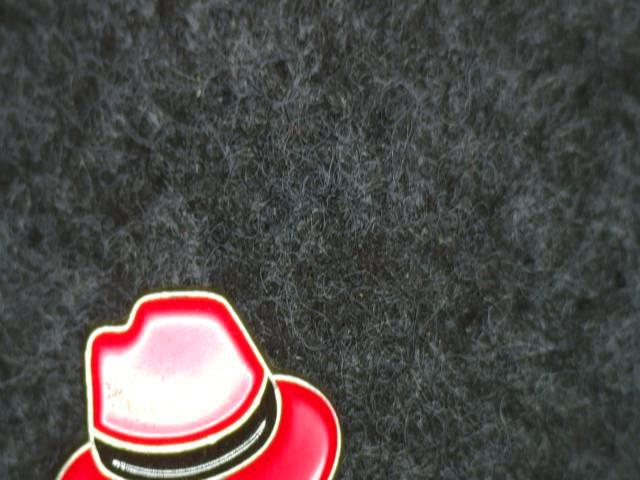Red-Hat: (33, 284, 360, 480)
